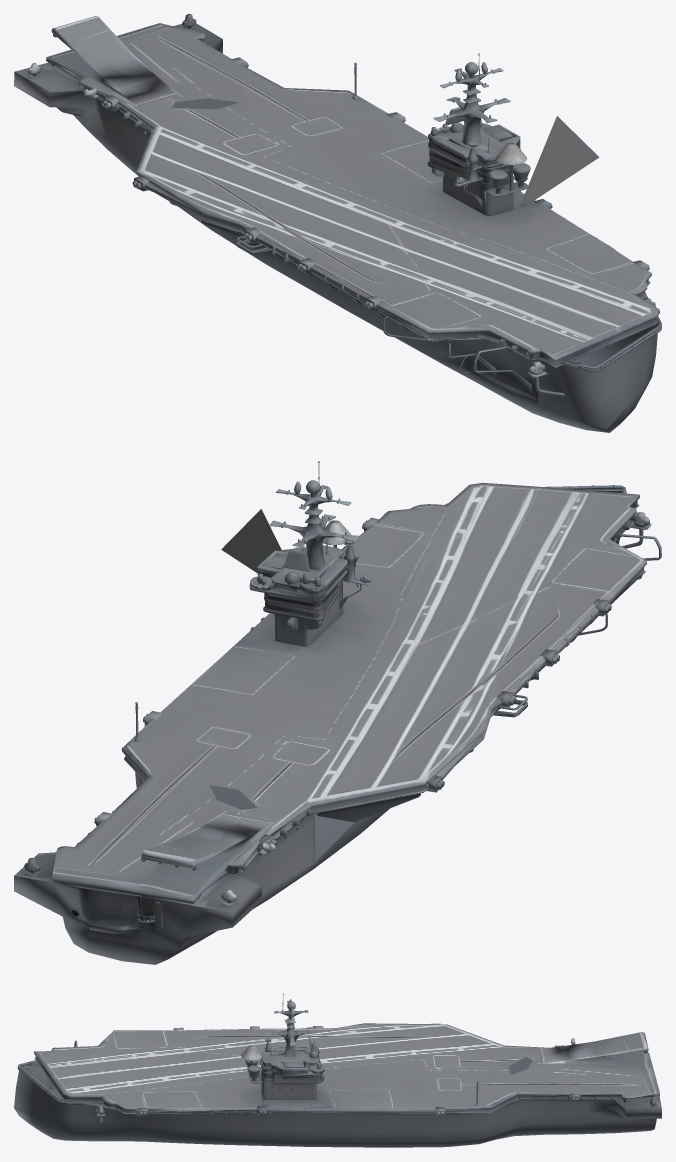
File: carrier.glb
3 renders of one model, top to bottom at view 1: azimuth 30°, elevation 25°; view 2: azimuth 150°, elevation 25°; view 3: azimuth 270°, elevation 25°, orthographic. The views are drawn at different scales.
Visible parts, largest first — view 1: tripo_node_53645d24; view 2: tripo_node_53645d24; view 3: tripo_node_53645d24.
Part boxes in pixels (x1,y1,x2,y2): tripo_node_53645d24: [14, 14, 661, 432]; tripo_node_53645d24: [14, 461, 661, 964]; tripo_node_53645d24: [14, 993, 661, 1147].
Size of the model in its own units: 0.397 by 0.27 by 0.9995.
Materials: 1 (1 with a texture image).
